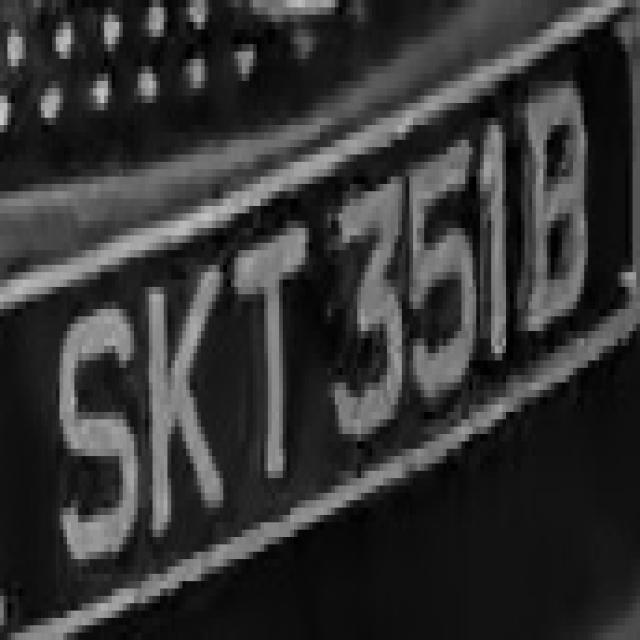1: (480, 81, 517, 397)
3: (331, 155, 406, 434)
5: (406, 132, 480, 398)
B: (514, 66, 592, 361)
K: (126, 228, 216, 544)
S: (41, 287, 145, 588)
T: (220, 198, 320, 508)
